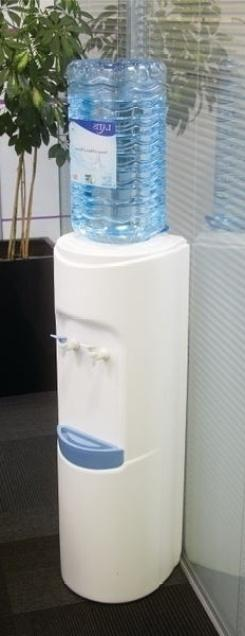Dispenser: (50, 56, 191, 604)
